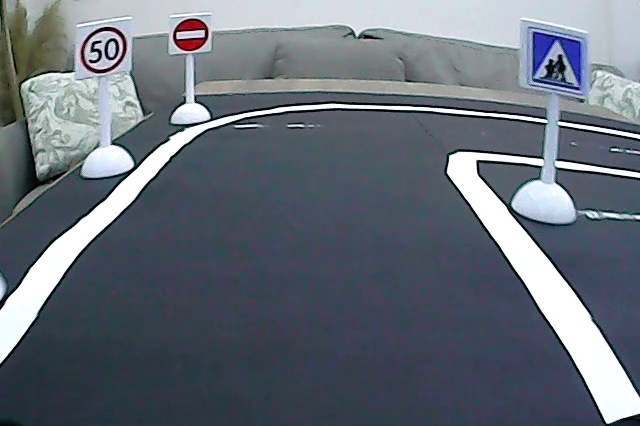do not enter: (170, 16, 213, 56)
school crossing: (529, 25, 585, 96)
speed limit 50: (78, 22, 130, 78)
